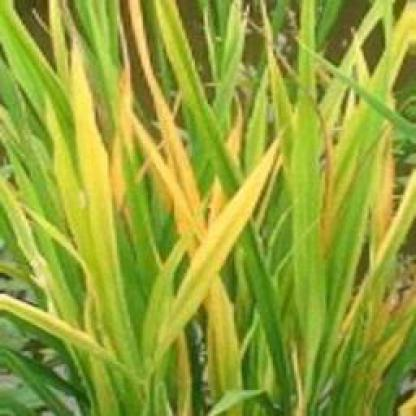Tungro: (123, 24, 242, 361), (152, 138, 298, 346), (68, 32, 115, 334), (361, 172, 416, 288), (3, 292, 96, 359)
